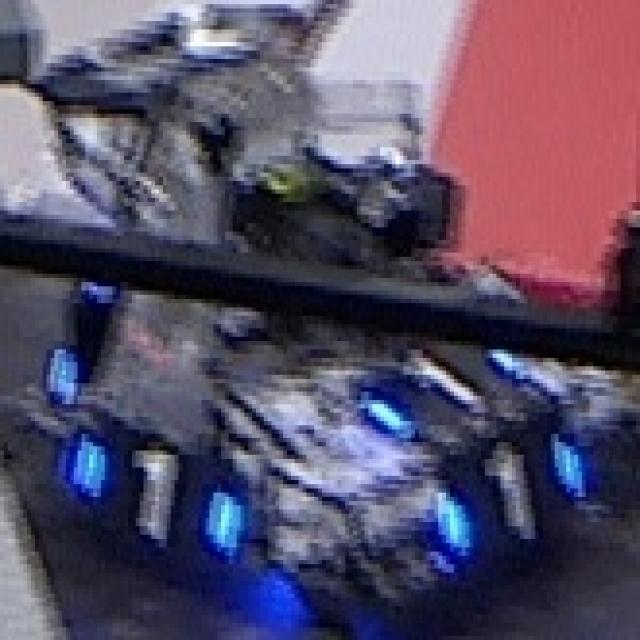B1: (70, 438, 252, 560), (438, 430, 590, 543), (345, 341, 524, 434)
